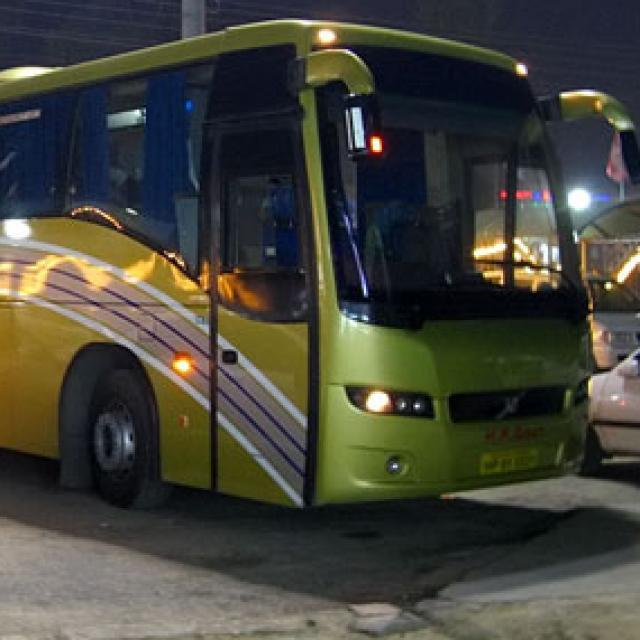bus_front: (0, 11, 638, 521)
